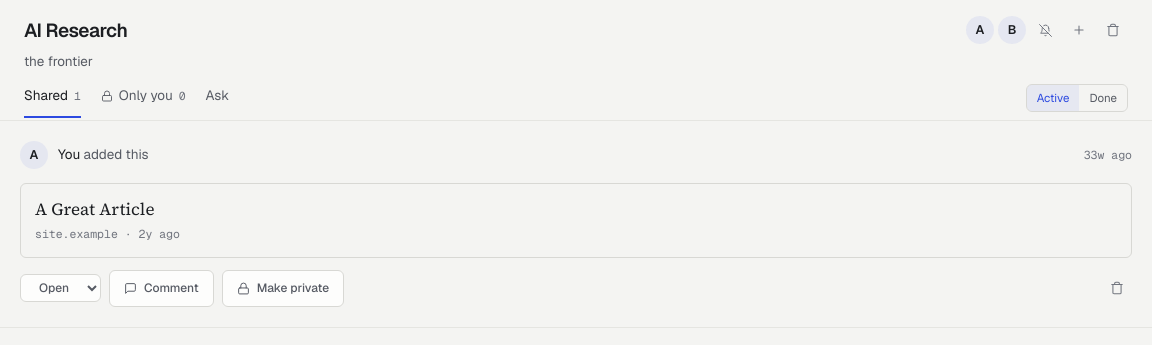
Test: ProjectPage › shows the done empty state and no toggle on the Ask tab
Click the button "Done" at x=1103, y=98, box x1=1079 y1=85 x2=1127 y2=111
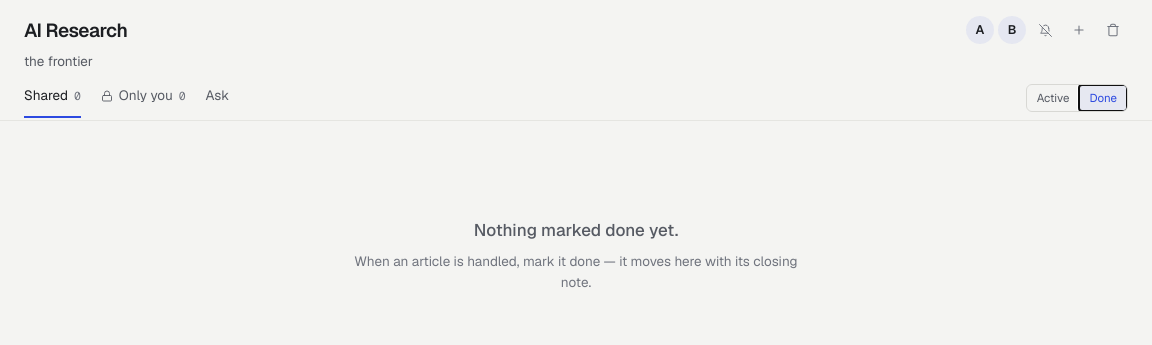
Now the text "Nothing marked done yet." is shown, box x1=474 y1=217 x2=678 y2=243
Click the button "Ask" at x=217, y=102, box x1=206 y1=85 x2=229 y2=118
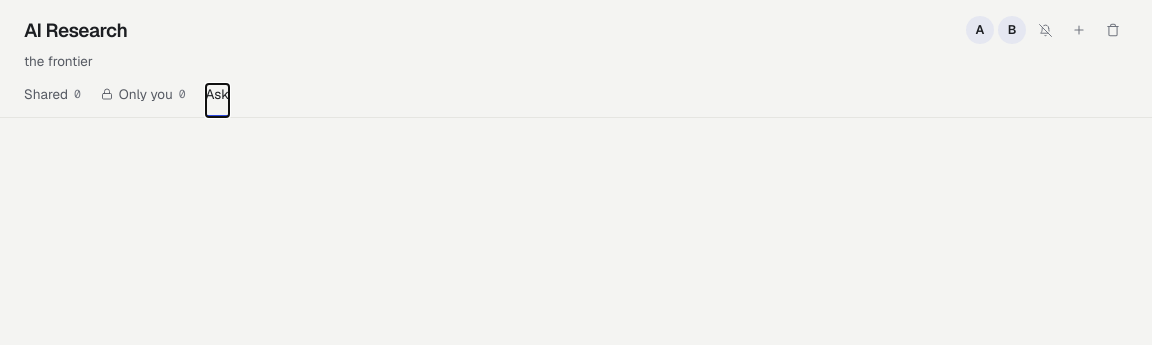
Now the button "Active" is gone
